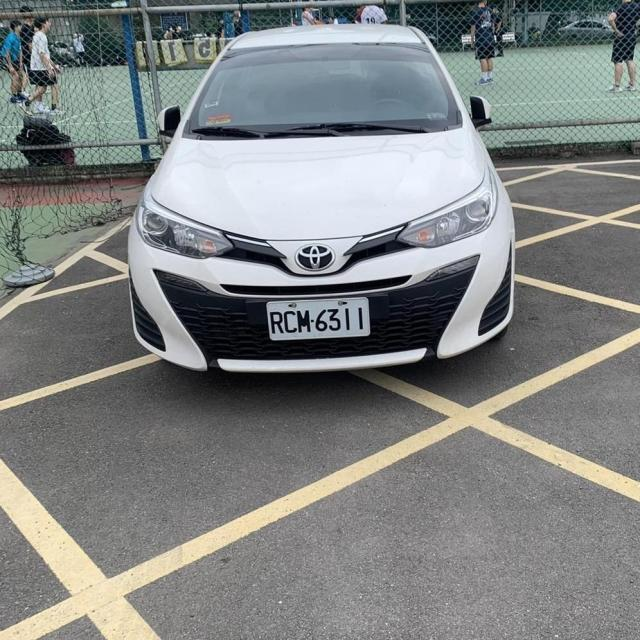W: (265, 292, 372, 349)
